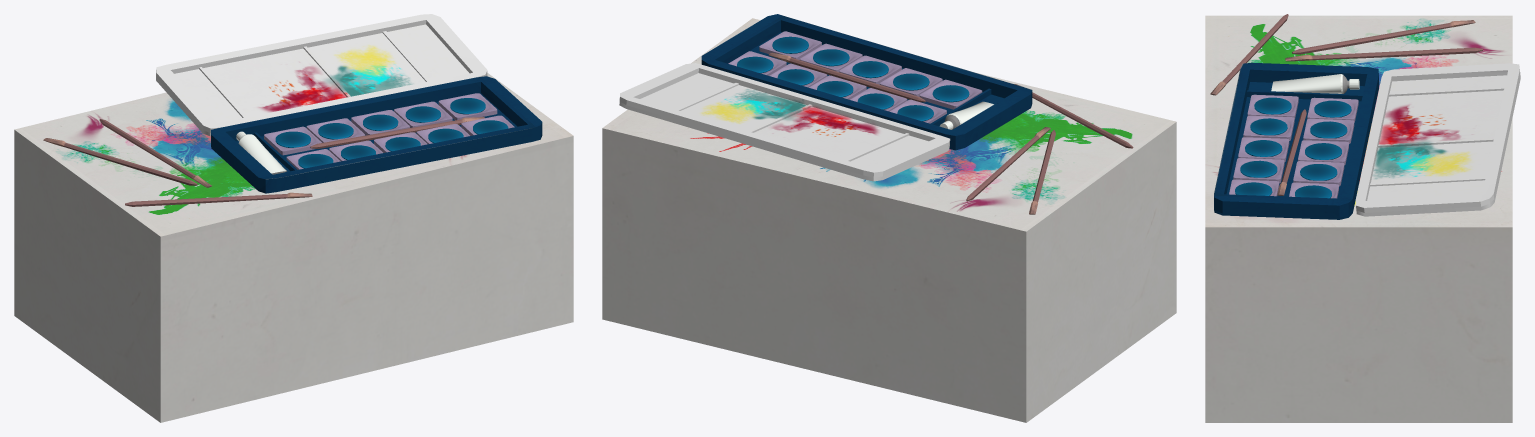
Rendered from schubladeninhalt.fbx.
The picture shows the model from 3 angles, left to right: view 1: azimuth 30°, elevation 25°; view 2: azimuth 150°, elevation 25°; view 3: azimuth 270°, elevation 25°; orthographic projection. The views are drawn at different scales.
Visible parts, largest first — view 1: papier_und_kasten; view 2: papier_und_kasten, polySurface92; view 3: papier_und_kasten, polySurface94, polySurface76, polySurface92, polySurface78, polySurface88, polySurface90, polySurface84, polySurface80, polySurface86, polySurface82.
Part boxes in pixels (x1,y1,x2,y2): papier_und_kasten: (14,14,573,422); papier_und_kasten: (602,14,1176,422); polySurface92: (893,73,929,90); papier_und_kasten: (1205,14,1520,422); polySurface94: (1254,97,1291,114); polySurface76: (1314,100,1351,117); polySurface92: (1250,118,1287,135); polySurface78: (1310,121,1347,138); polySurface88: (1240,160,1277,177); polySurface90: (1245,140,1282,156); polySurface84: (1300,164,1337,180); polySurface80: (1305,143,1341,159); polySurface86: (1235,182,1272,195); polySurface82: (1295,185,1331,198).
Size of the model in its own units: 6.31 by 3.08 by 3.98.
